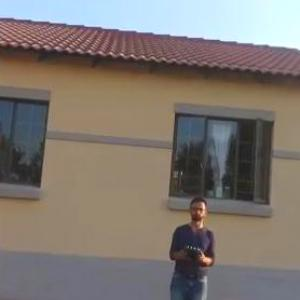follow: (163, 191, 221, 299)
